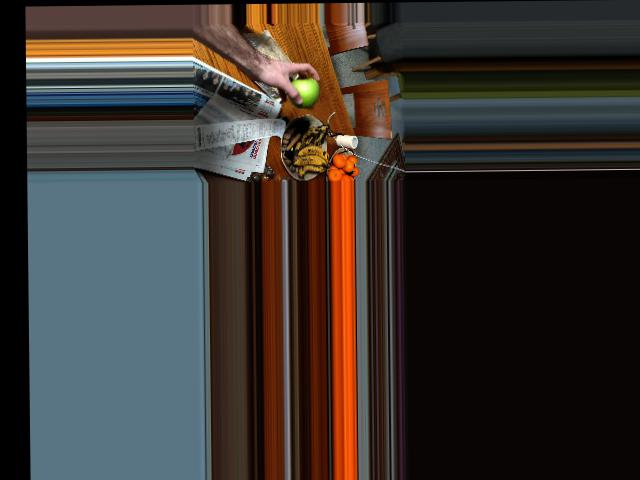apple: (284, 77, 321, 107)
